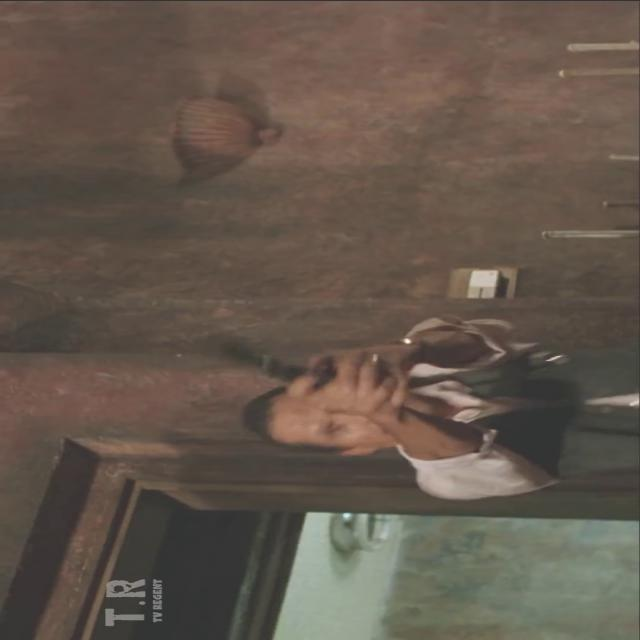handgun: (203, 326, 383, 418)
